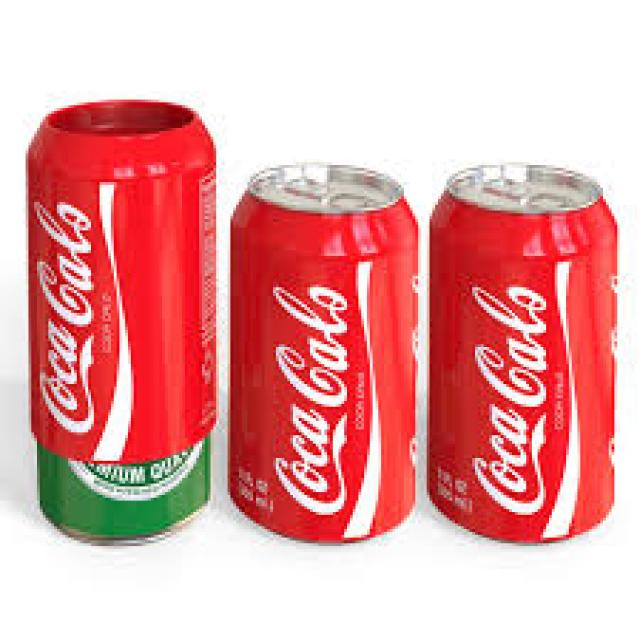Lata: (428, 168, 620, 542), (230, 169, 420, 543)
